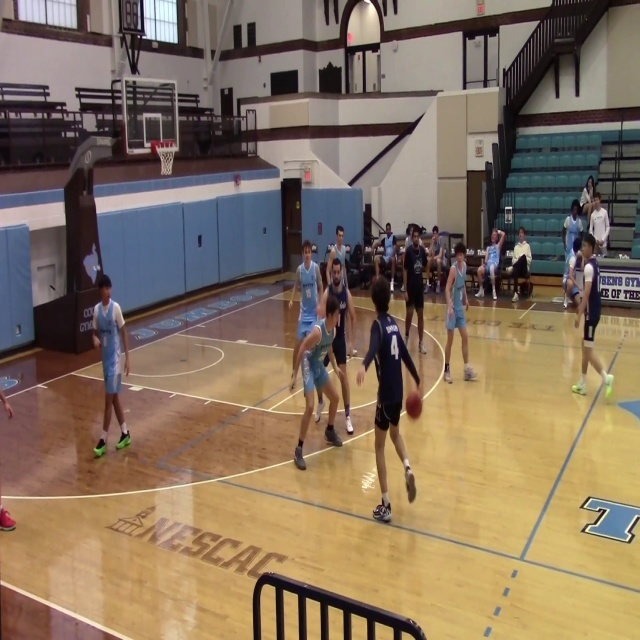Basketball: (405, 390, 422, 419), (565, 279, 575, 294)
